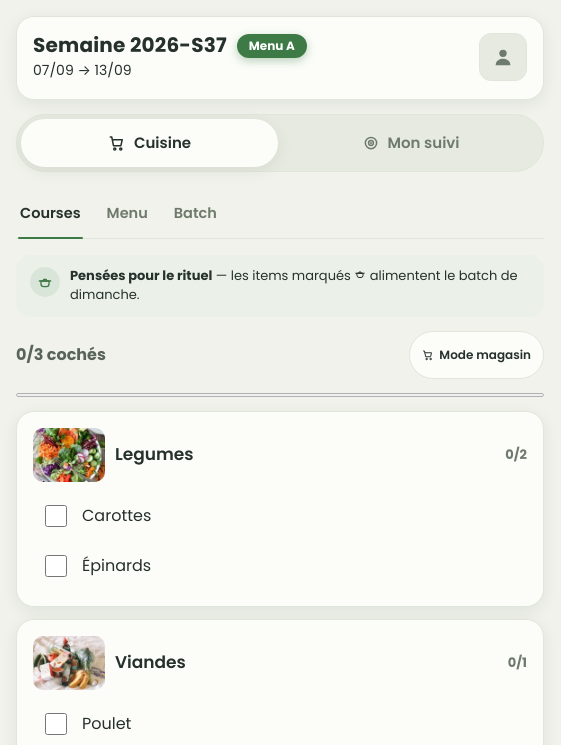
it: App shell › navigue entre Cuisine et Mon suivi (données filtrées sur mon profil)
Expected: the heading "Legumes" is shown, [115,444,194,465]
Expected: the text "Carottes" is shown, [82,504,151,527]
Click the button "Menu": (127, 214) [105,190,150,238]
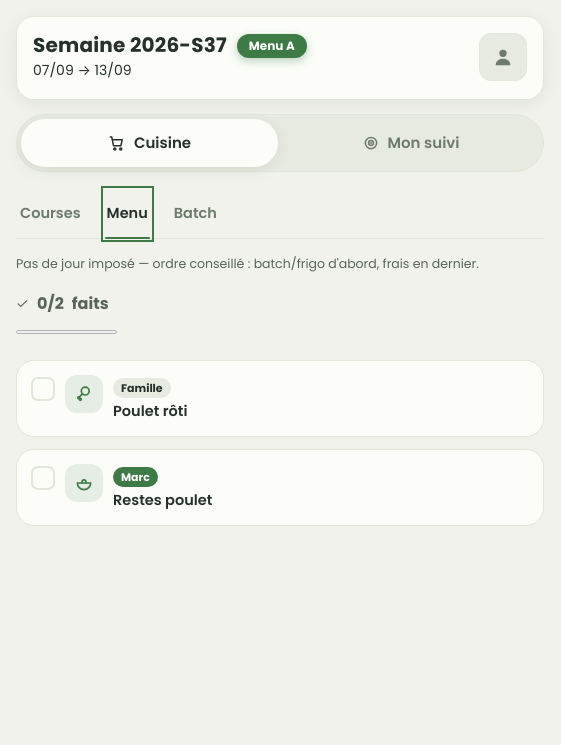
Expected: the element with class "menu-card" showing "Famille Poulet rôti" is shown, [16,360,544,437]
Expected: the text "Poulet rôti" is shown, [113,401,188,421]
Click the button "Batch": (195, 214) [172,190,219,238]
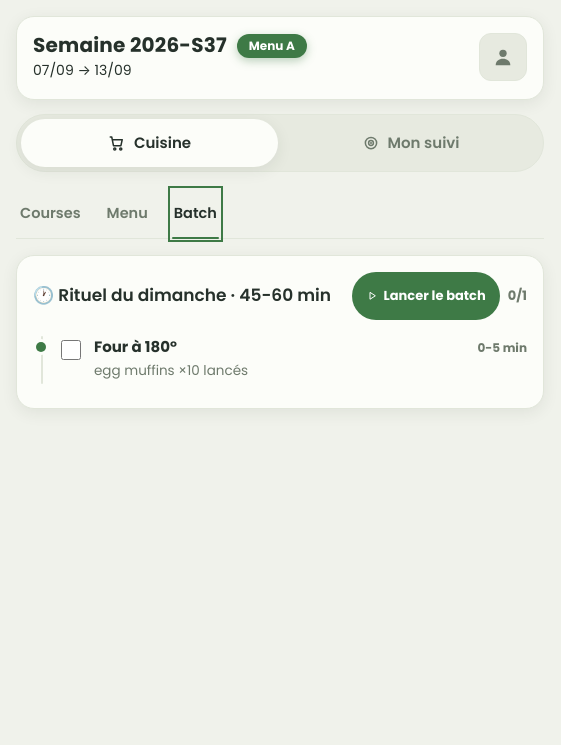
Expected: the text "egg muffins ×10 lancés" is shown, [94,360,248,380]
Click the button "Mon suivi": (410, 143) [282,119,539,167]
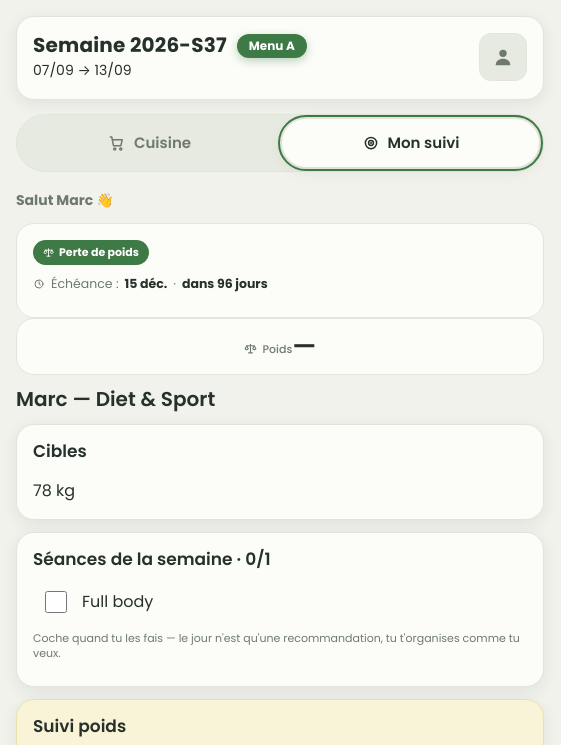
Expected: the text "Salut Marc 👋" is shown, [16,190,114,210]
Expected: the heading "Marc — Diet & Sport" is shown, [16,385,215,413]
Expected: the text "Full body" is shown, [82,590,153,613]
